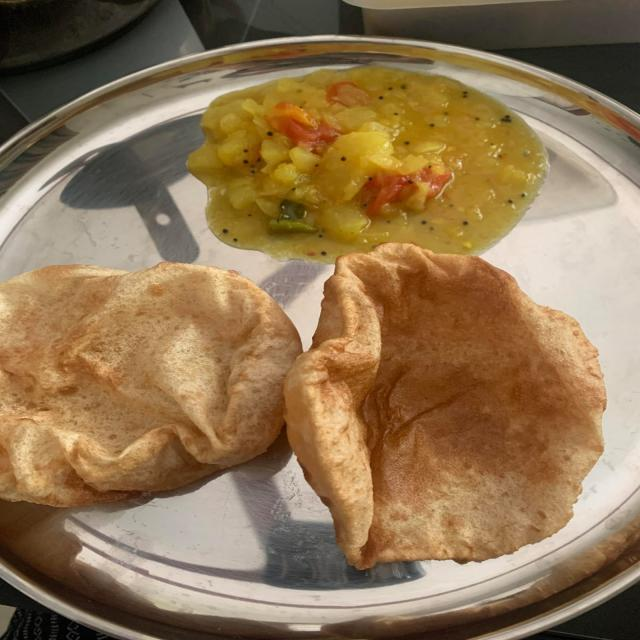poori: (280, 236, 617, 584), (0, 254, 304, 517)
